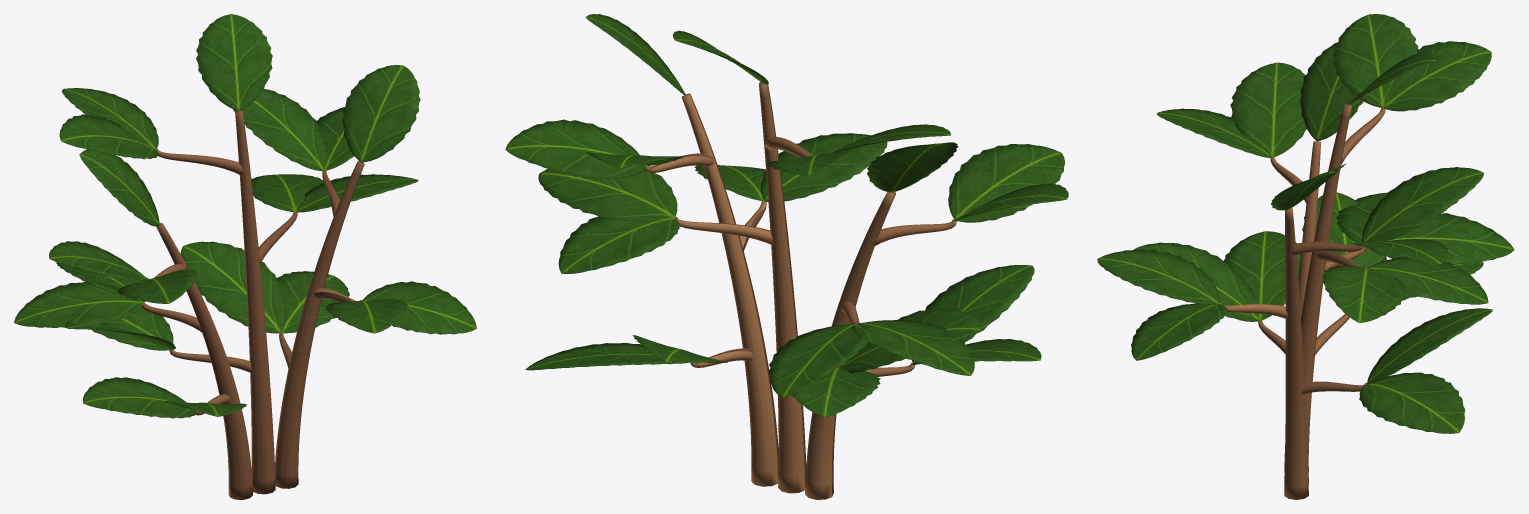
Rendered from NP_Blackberry_Young.fbx.
3 renders of one model, left to right at view 1: azimuth 30°, elevation 25°; view 2: azimuth 150°, elevation 25°; view 3: azimuth 270°, elevation 25°, orthographic. The views are drawn at different scales.
Parts seen in each view (by area): view 1: NP_Blackberry_Young; view 2: NP_Blackberry_Young; view 3: NP_Blackberry_Young.
Boxes of the visible parts, <box> form: NP_Blackberry_Young: <box>14,14,476,499</box>; NP_Blackberry_Young: <box>505,14,1068,499</box>; NP_Blackberry_Young: <box>1097,14,1514,499</box>.
Bounding box in the file's own units: 59.25 × 58.14 × 50.04.
